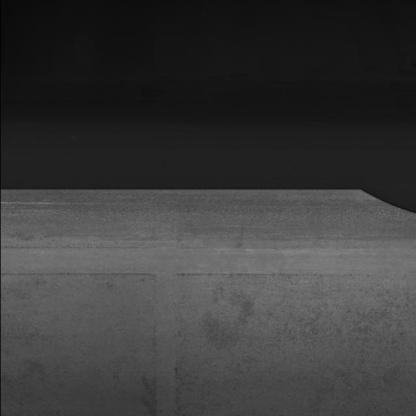crescent_gap: (350, 183, 416, 227)
